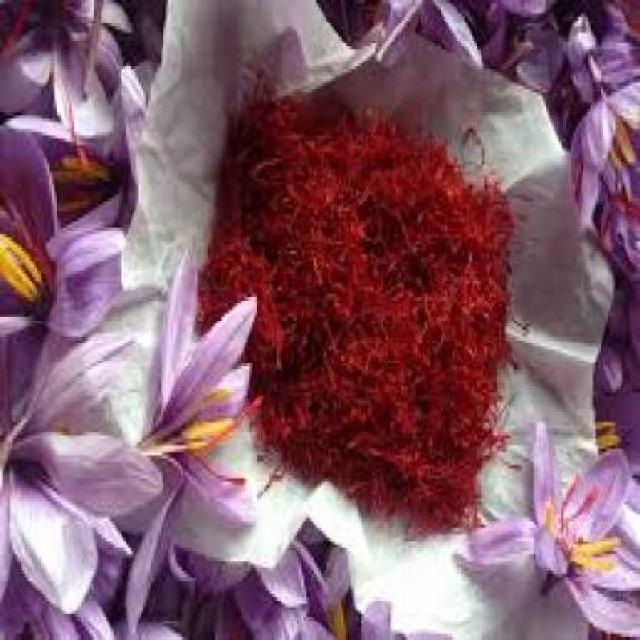saffron open: (472, 430, 640, 637), (140, 255, 256, 524)
